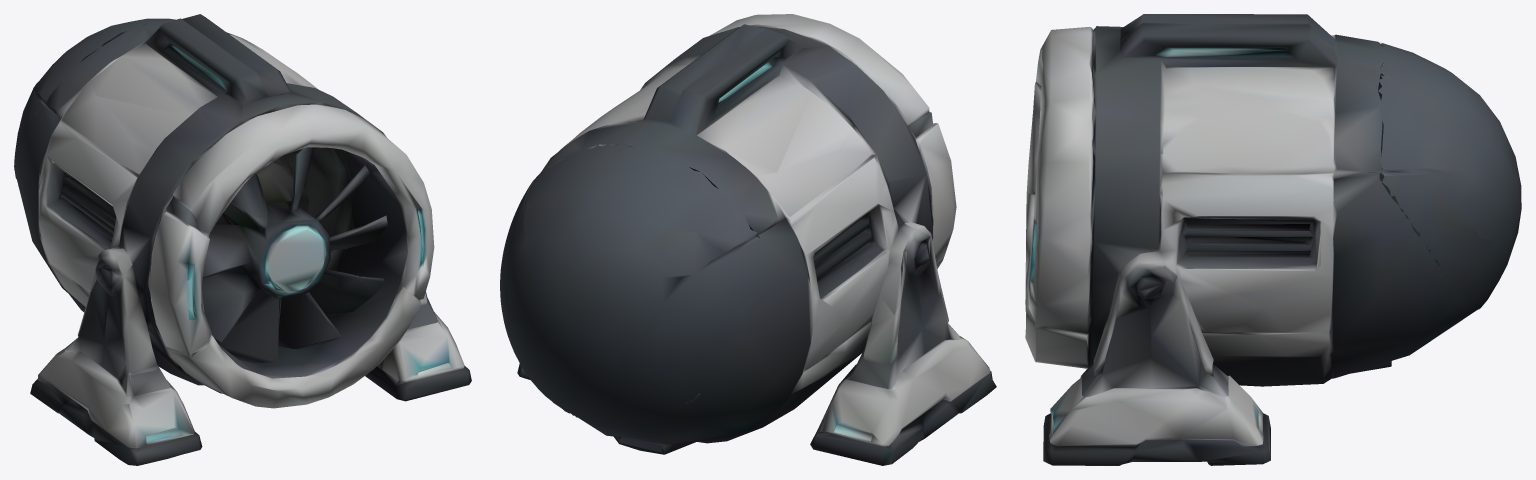
Rendered from model-31-wind-generator.glb.
3 views of the same model, side by side, from view 1: azimuth 30°, elevation 25°; view 2: azimuth 150°, elevation 25°; view 3: azimuth 270°, elevation 25° (orthographic). The views are drawn at different scales.
Parts seen in each view (by area): view 1: Frame, Moving; view 2: Frame, Moving; view 3: Frame, Moving.
Boxes of the visible parts, left/top/right/bottom form: Frame: left=14, top=14, right=471, bottom=465; Moving: left=14, top=18, right=175, bottom=186; Frame: left=515, top=14, right=996, bottom=465; Moving: left=500, top=143, right=759, bottom=425; Frame: left=1025, top=14, right=1476, bottom=465; Moving: left=1378, top=43, right=1521, bottom=309.
Size of the model in its own units: 0.7183 by 0.6383 by 0.814.
